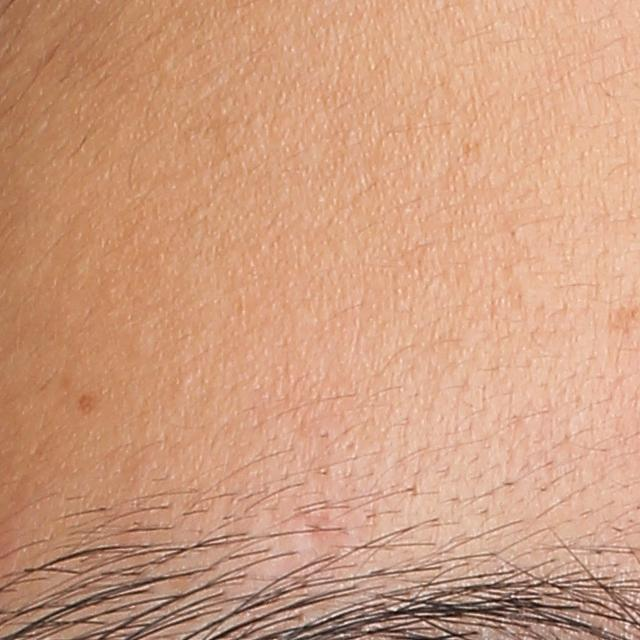nevus: (76, 391, 97, 416)
